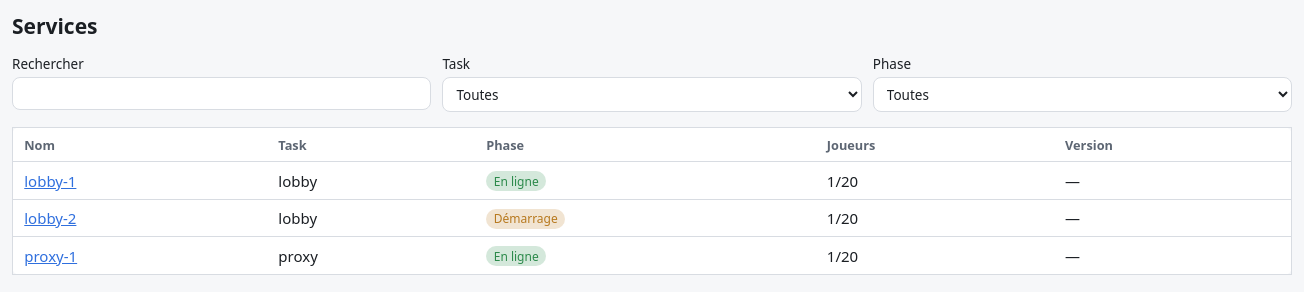
Scenario: services › liste avec filtre de task
Check: the link "proxy-1" is shown, box [24, 246, 77, 266]
Select "lobby" in the dropdown labelled "Task" at {"x": 652, "y": 95}, box [442, 77, 862, 112]
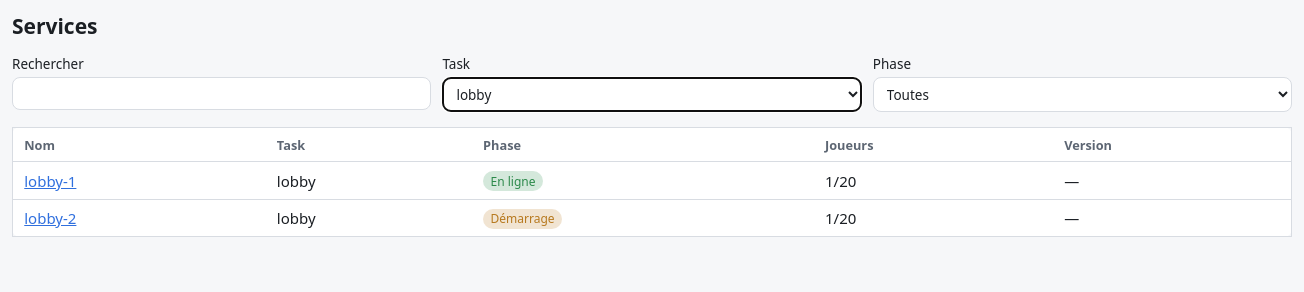
Check: the link "lobby-2" is shown, box [24, 208, 76, 228]
Check: the link "proxy-1" is gone
